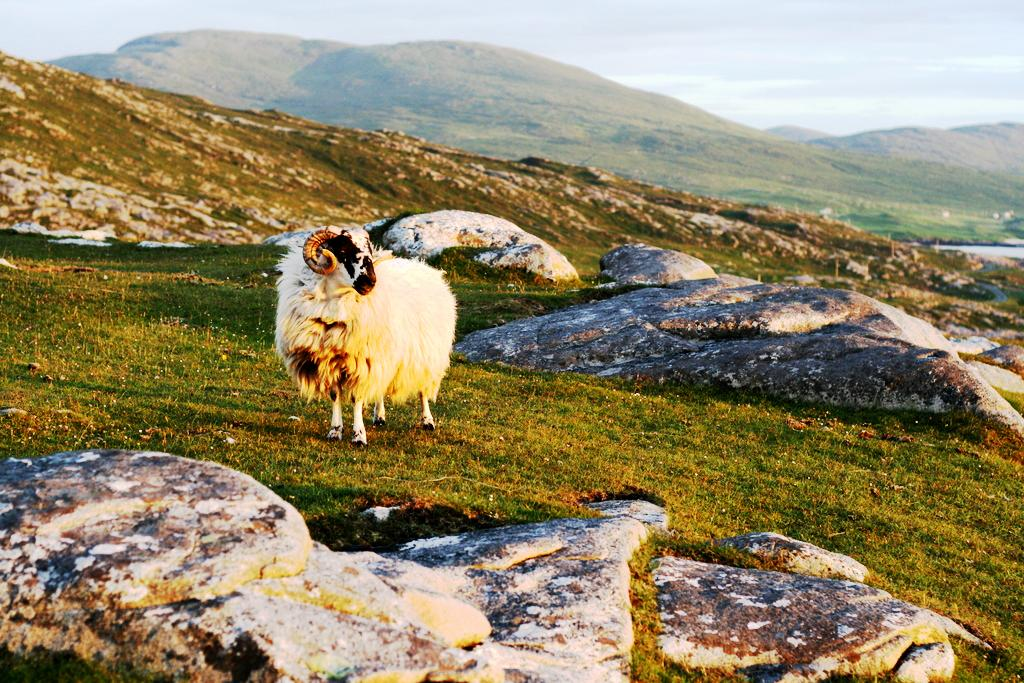Sheep: (272, 225, 459, 447)
